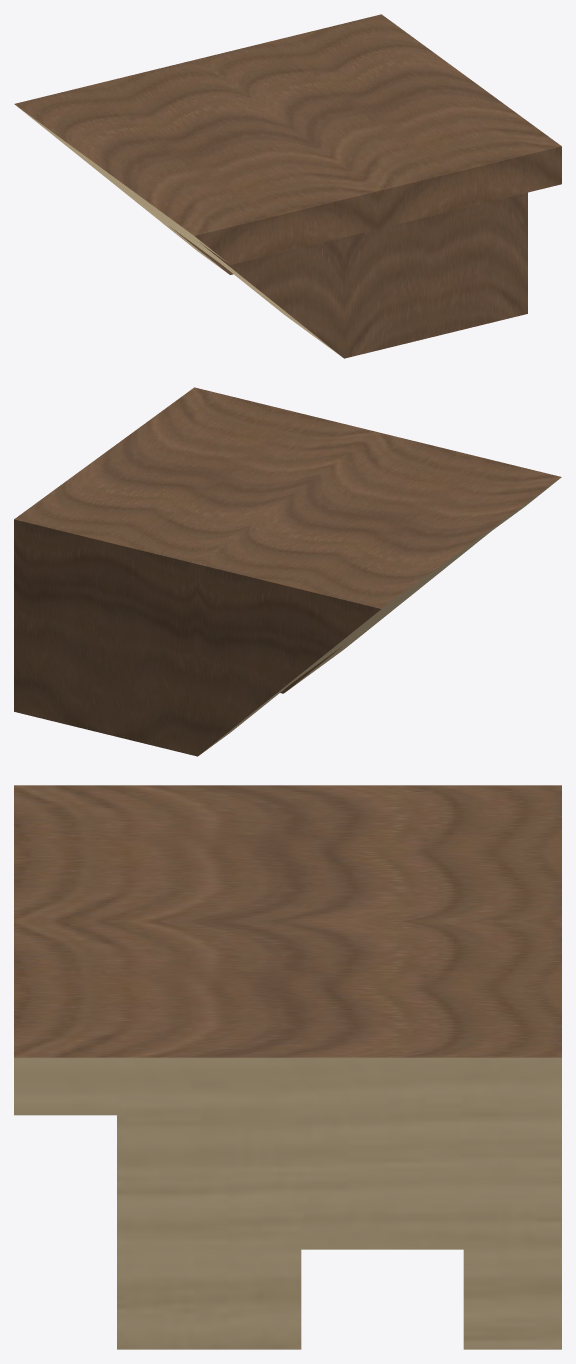
The picture shows the model from 3 angles, top to bottom: view 1: azimuth 30°, elevation 25°; view 2: azimuth 150°, elevation 25°; view 3: azimuth 270°, elevation 25°; orthographic projection. The views are drawn at different scales.
Visible parts, largest first — view 1: middle, first; view 2: middle, first; view 3: middle, first.
Boxes of the visible parts, bbox=[...] form: middle: bbox=[198, 14, 561, 358]; first: bbox=[14, 59, 378, 358]; middle: bbox=[14, 387, 377, 756]; first: bbox=[197, 432, 561, 756]; middle: bbox=[14, 921, 561, 1349]; first: bbox=[14, 785, 561, 921].
Bounding box in the file's own units: 0.04 × 0.02 × 0.034.
2 materials, 2 textured.
